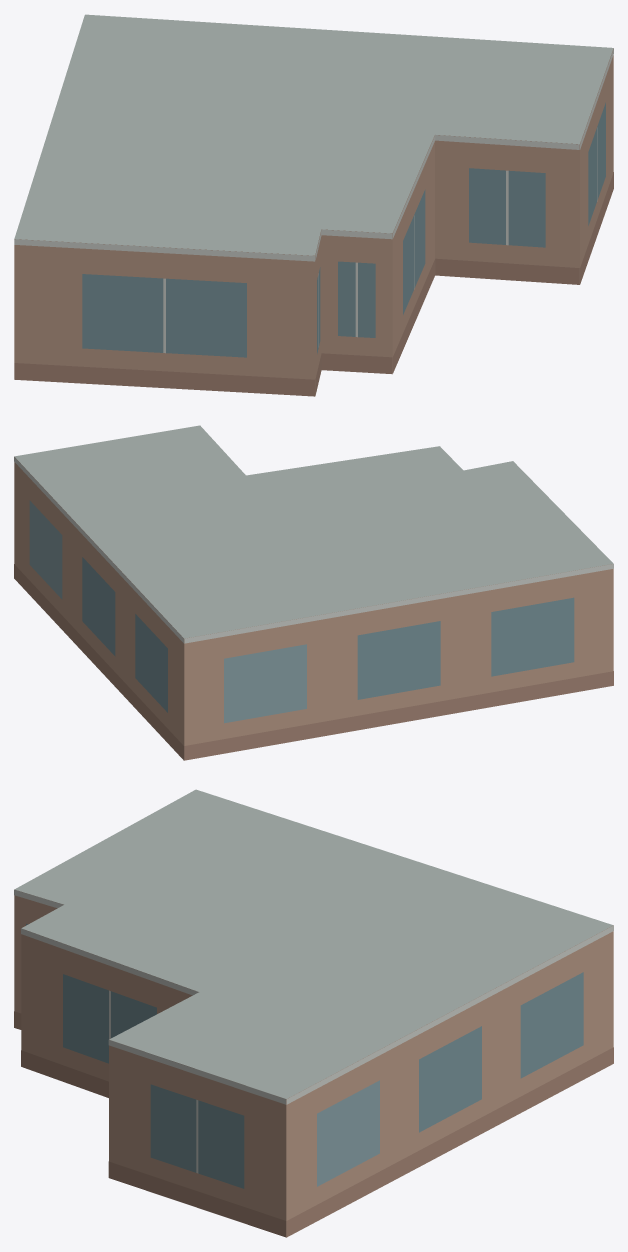
File: survey-upis-32635992.glb
The picture shows the model from 3 angles, top to bottom: view 1: azimuth 30°, elevation 25°; view 2: azimuth 150°, elevation 25°; view 3: azimuth 270°, elevation 25°; orthographic projection. The views are drawn at different scales.
Visible parts, largest first — view 1: survey-upis-32635992.tmp; view 2: survey-upis-32635992.tmp; view 3: survey-upis-32635992.tmp.
Boxes of the visible parts, left/top/right/bottom form: survey-upis-32635992.tmp: left=14, top=14, right=613, bottom=396; survey-upis-32635992.tmp: left=14, top=425, right=613, bottom=760; survey-upis-32635992.tmp: left=14, top=789, right=613, bottom=1237.
Size of the model in its own units: 14.66 by 3.05 by 11.99.
